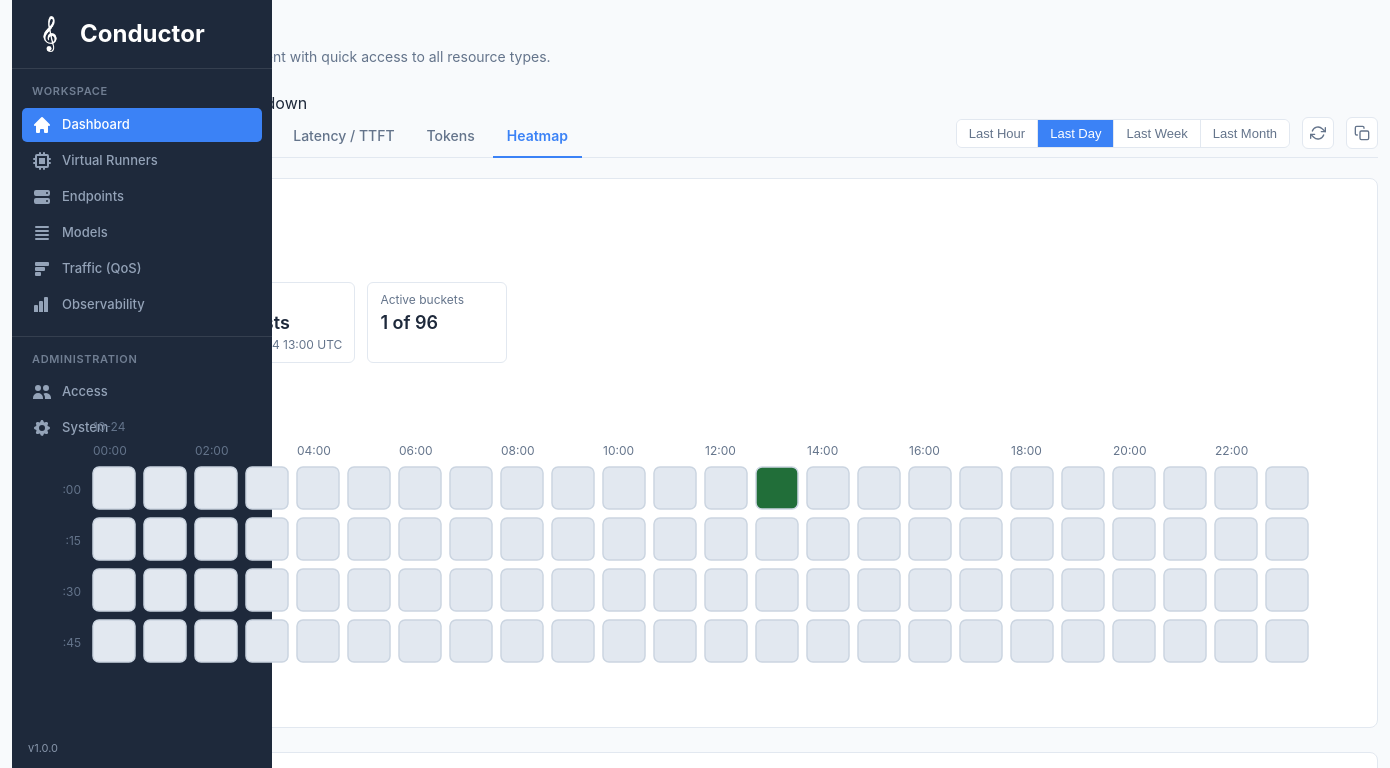
voyage integration: version footer and heatmap tab together › a Dashboard lastDay failure does not hide the heat map, and a heat map failure does not hide the other tabs
This screenshot has width=1390, height=768.
Check: the table named "Activity heatmap, Requests, Last day" is shown, box [33, 401, 1317, 671]
Check: the messages read "Analytics unavailable: dashboard down", in this order, box [12, 93, 307, 113]
Click the button "Last Hour": [998, 133] box [957, 120, 1038, 146]
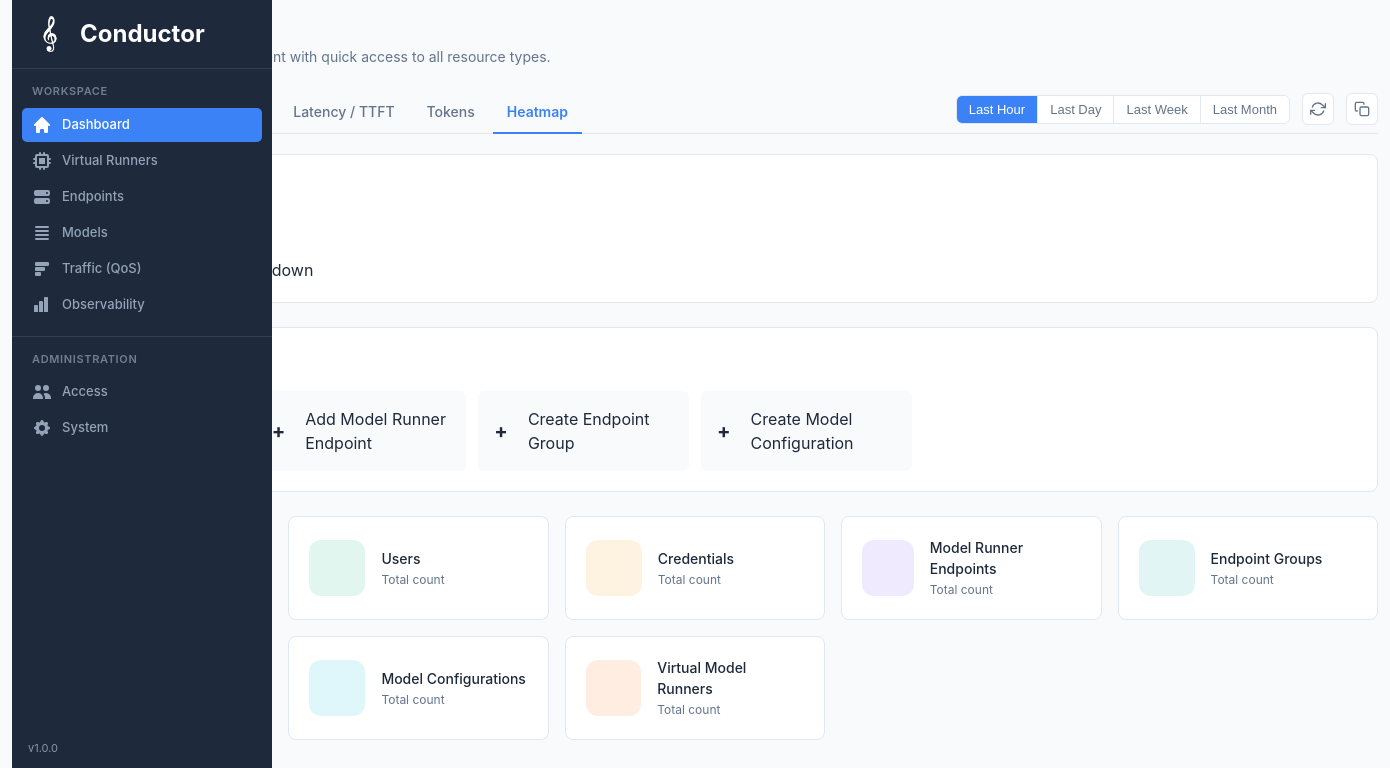
Check: the number of tabs is 5, box [12, 91, 145, 134]; [149, 91, 275, 134]; [279, 91, 409, 134]; [413, 91, 489, 134]; [493, 91, 582, 134]
Check: the message reads "Analytics unavailable: heatmap down", box [33, 260, 313, 280]
